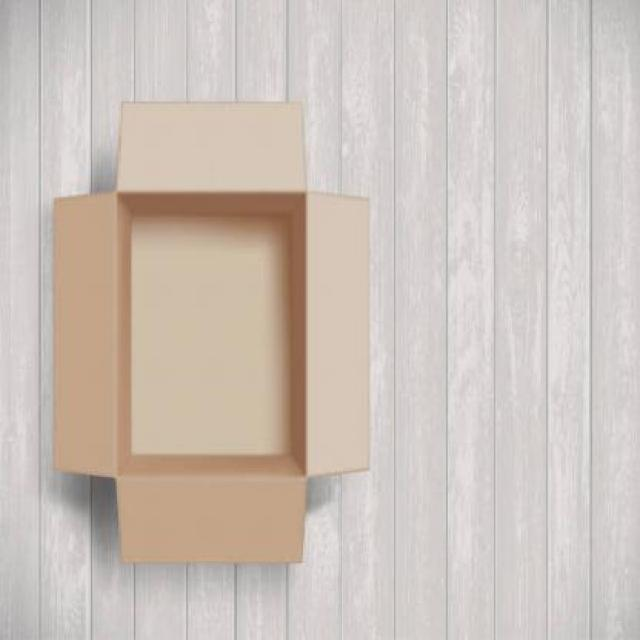box: (52, 99, 373, 556)
